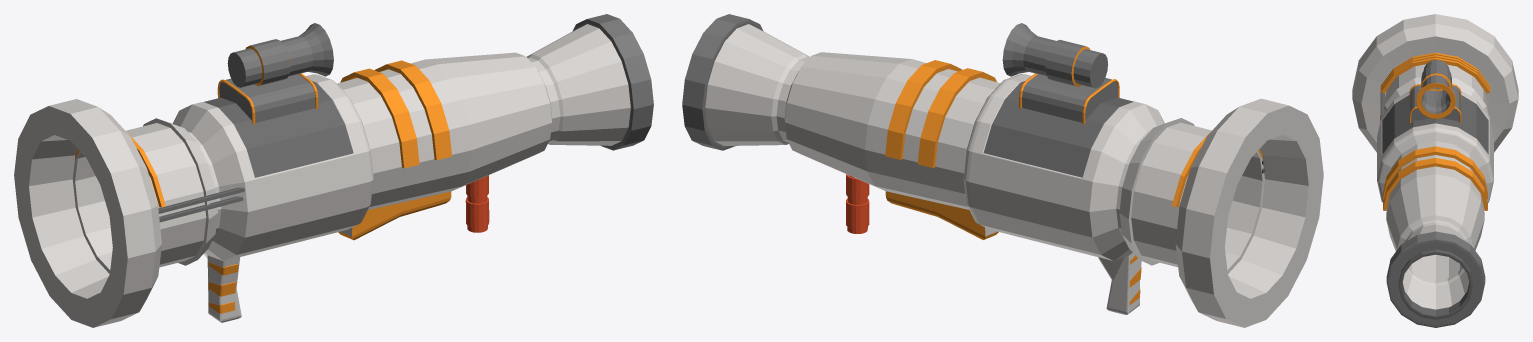
File: ND_bazooka.fbx
The picture shows the model from 3 angles, left to right: view 1: azimuth 30°, elevation 25°; view 2: azimuth 150°, elevation 25°; view 3: azimuth 270°, elevation 25°; orthographic projection. The views are drawn at different scales.
Visible parts, largest first — view 1: Cylinder.011; view 2: Cylinder.011; view 3: Cylinder.011.
Boxes of the visible parts, bbox=[...] form: Cylinder.011: bbox=[14, 14, 653, 327]; Cylinder.011: bbox=[682, 14, 1323, 327]; Cylinder.011: bbox=[1352, 14, 1518, 327].
Bounding box in the file's own units: 7.7 × 21.77 × 9.9.
